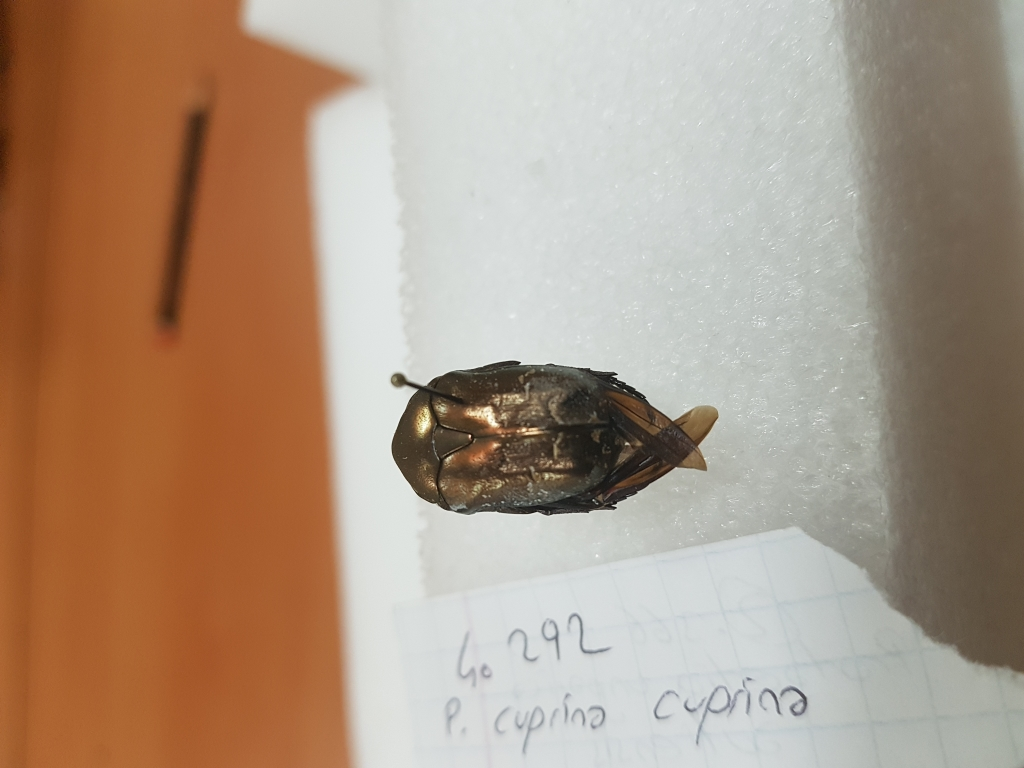Protaetia_cuprina_cuprina: (392, 355, 726, 521)
